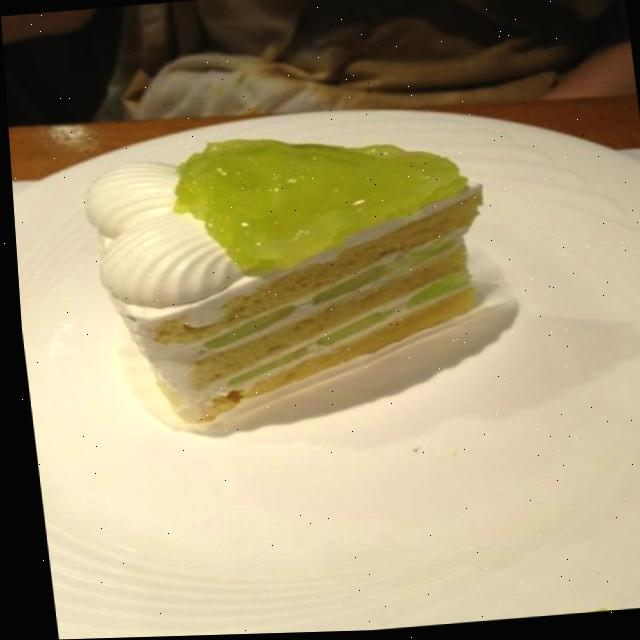蛋糕甜品: (7, 60, 595, 543)
